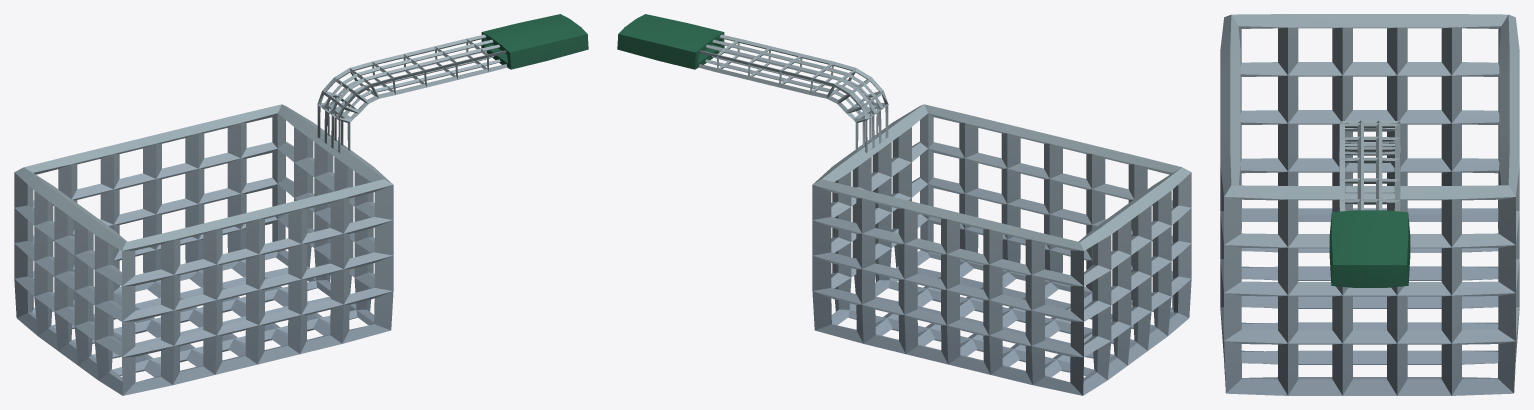
File: Fritoz02 1.fbx
3 views of the same model, side by side, from view 1: azimuth 30°, elevation 25°; view 2: azimuth 150°, elevation 25°; view 3: azimuth 270°, elevation 25° (orthographic). The views are drawn at different scales.
Parts seen in each view (by area): view 1: Cube.005, Cube.004; view 2: Cube.005, Cube.004; view 3: Cube.005, Cube.004.
Part boxes in pixels (x1=…): Cube.005: x1=14, y1=34, x2=507, y2=395; Cube.004: x1=481, y1=14, x2=588, y2=69; Cube.005: x1=698, y1=34, x2=1191, y2=395; Cube.004: x1=617, y1=14, x2=724, y2=69; Cube.005: x1=1220, y1=14, x2=1519, y2=395; Cube.004: x1=1329, y1=210, x2=1410, y2=287.
Bounding box in the file's own units: 587 × 236 × 220.
